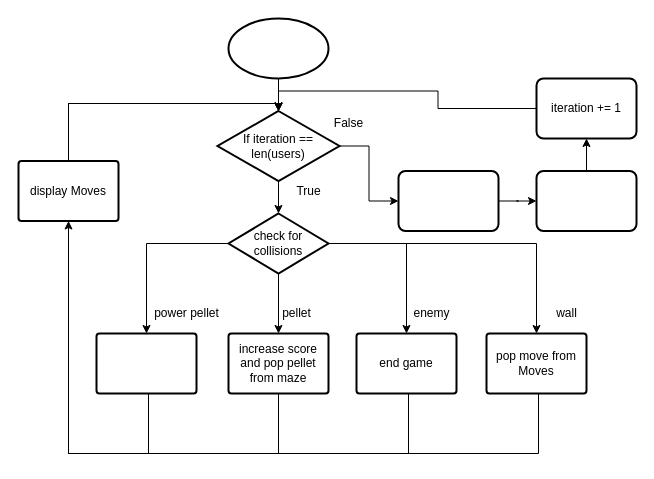
The diagram is 654 pixels wide and 479 high, and some of its shapes have lost their labels. The centre of each missing label's shape, as x and y in pixels:
"add input to Moves" belongs at [586,201].
"getUser[iteration] input" belongs at [448,201].
"increase score and enter enemies into scared mode" belongs at [146,363].
"Start" belongs at [278,48].
